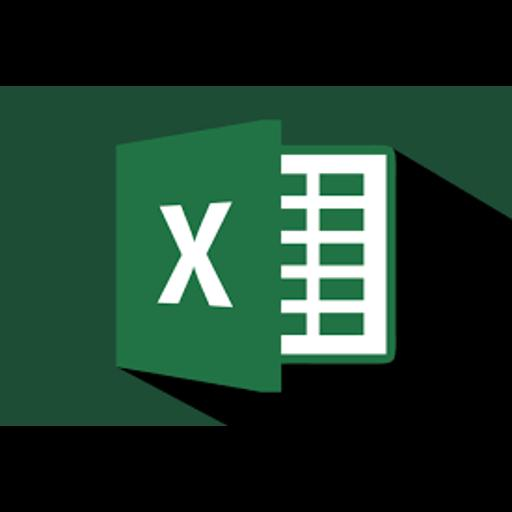Office365: (0, 86, 512, 426)
